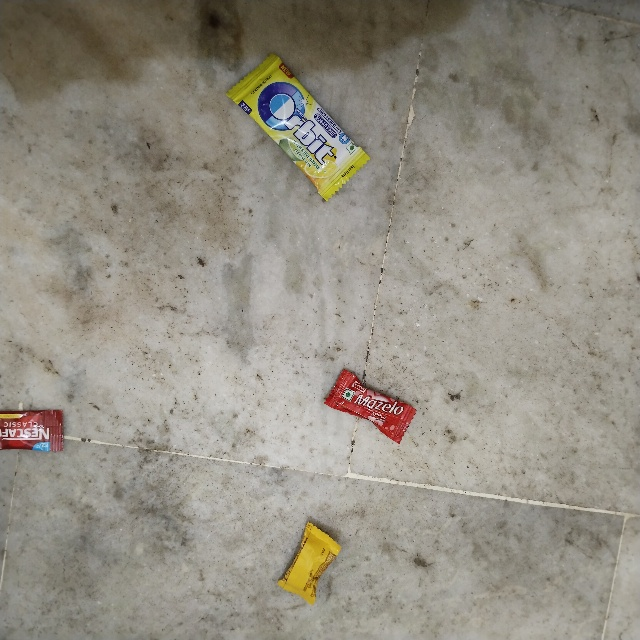Alpenlibe Creamfills: (311, 515, 354, 596)
Mazelo: (343, 363, 426, 406)
Nescafe Coffee: (0, 408, 67, 452)
Orbit: (228, 97, 293, 238)
